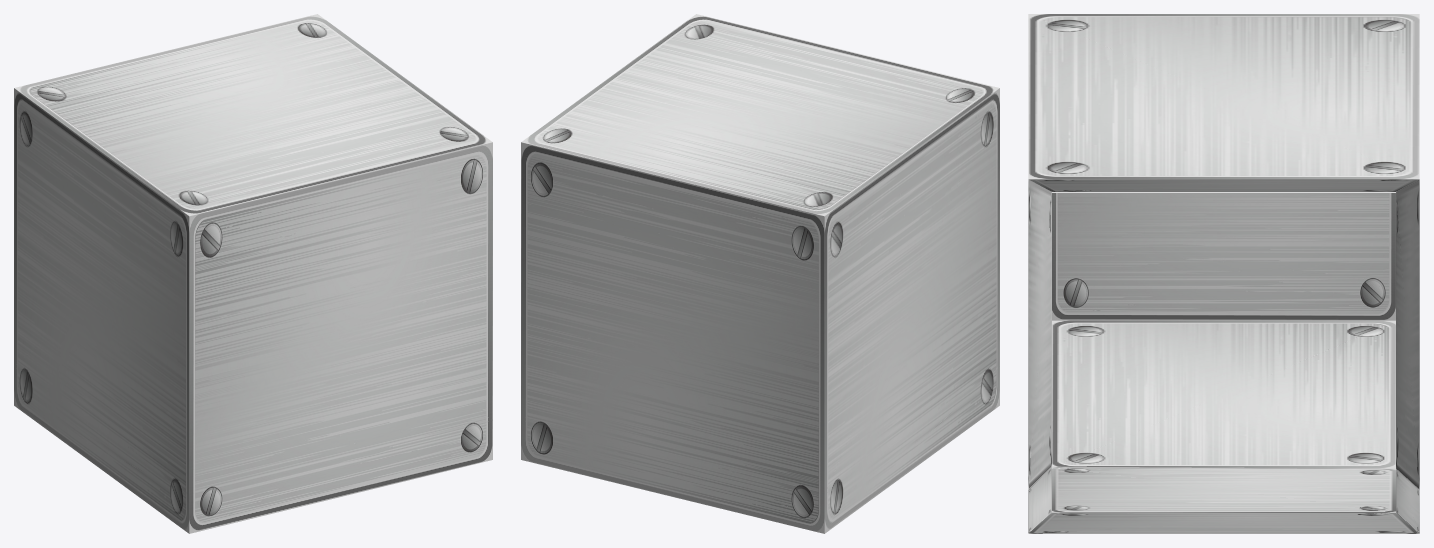
The model's file is metal capsule 3.fbx.
3 renders of one model, left to right at view 1: azimuth 30°, elevation 25°; view 2: azimuth 150°, elevation 25°; view 3: azimuth 270°, elevation 25°, orthographic. The views are drawn at different scales.
Parts seen in each view (by area): view 1: Cube.001; view 2: Cube.001; view 3: Cube.001.
Boxes of the visible parts, x1,y1,x2,y2 form: Cube.001: (14,14,492,533); Cube.001: (521,14,999,533); Cube.001: (1028,14,1419,533).
Bounding box in the file's own units: 200 × 200 × 200.
